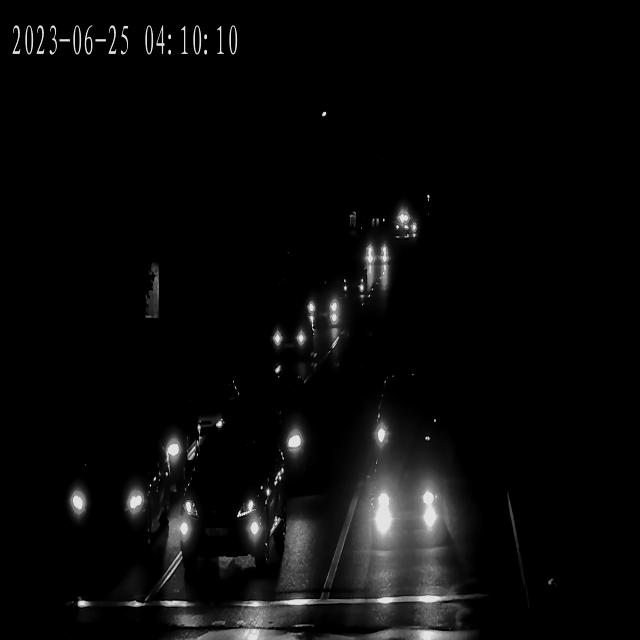Car: (162, 442, 294, 579), (52, 440, 168, 554), (91, 382, 189, 492), (367, 435, 449, 551), (362, 385, 447, 460), (192, 365, 242, 442), (268, 316, 314, 360), (304, 282, 342, 318), (339, 270, 372, 298), (362, 234, 390, 260)
